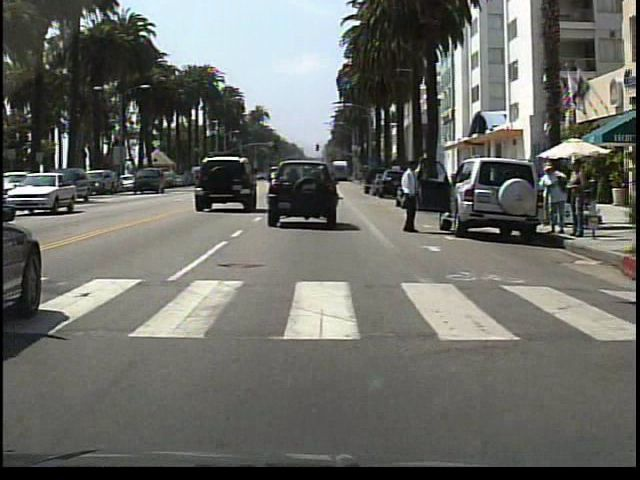person: (396, 154, 428, 240), (537, 158, 566, 240), (566, 157, 587, 242)
